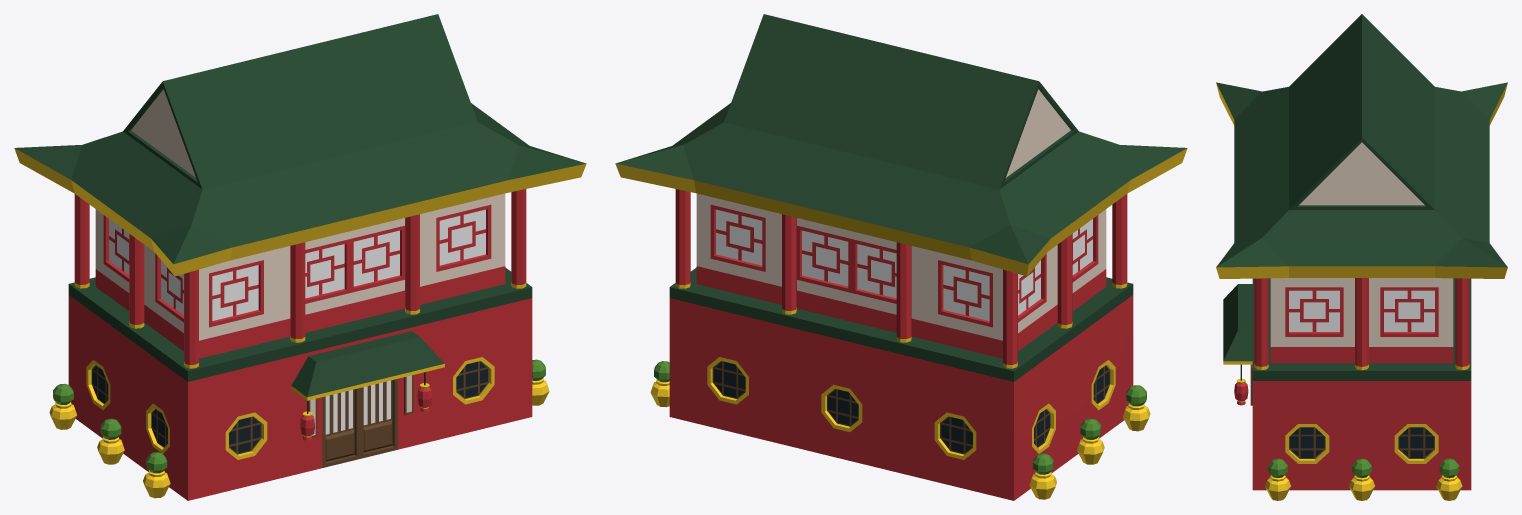
The model's file is jap_1.glb.
3 views of the same model, side by side, from view 1: azimuth 30°, elevation 25°; view 2: azimuth 150°, elevation 25°; view 3: azimuth 270°, elevation 25° (orthographic). The views are drawn at different scales.
Parts seen in each view (by area): view 1: building-antique-china; view 2: building-antique-china; view 3: building-antique-china.
Boxes of the visible parts, bbox=[...] form: building-antique-china: bbox=[14, 14, 586, 500]; building-antique-china: bbox=[615, 14, 1187, 500]; building-antique-china: bbox=[1216, 14, 1507, 500].
Bounding box in the file's own units: 12 × 10.2 × 8.
